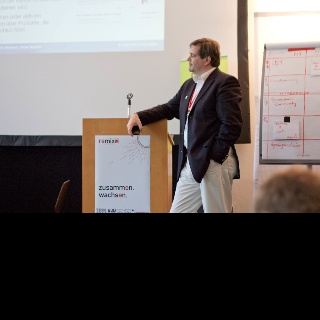without_mask: (187, 44, 205, 71)
